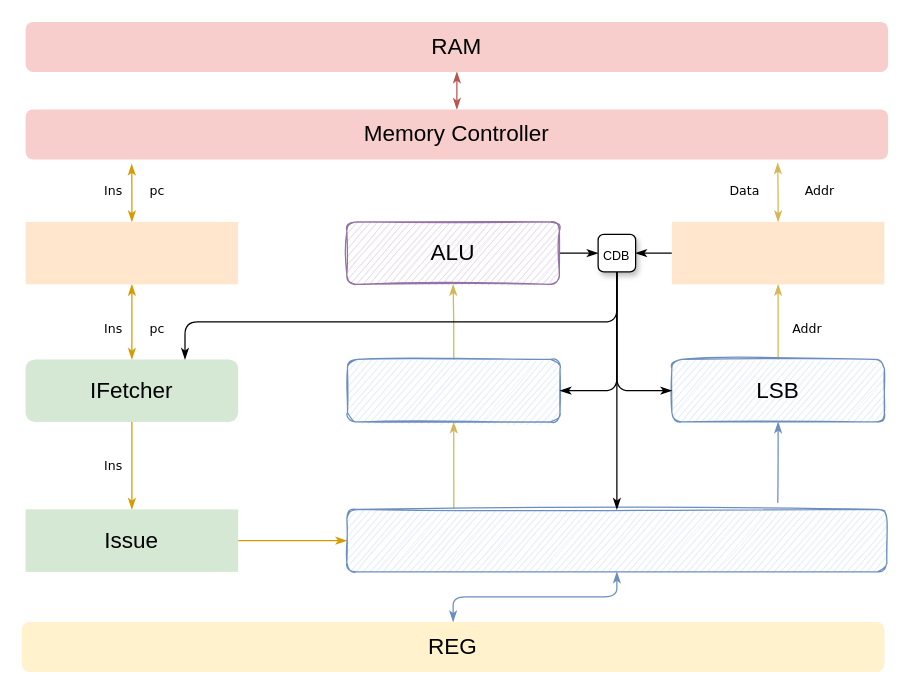
Some shapes in this 909 by 693 pixel diagram are drawn without their labels. The shapes that lost their labels are listed below. From the top down, each one's centre as x and y in pixels, then its label:
At point 131,252: "ICache".
At point 777,252: "DCache".
At point 453,390: "RS".
At point 616,540: "RoB".
